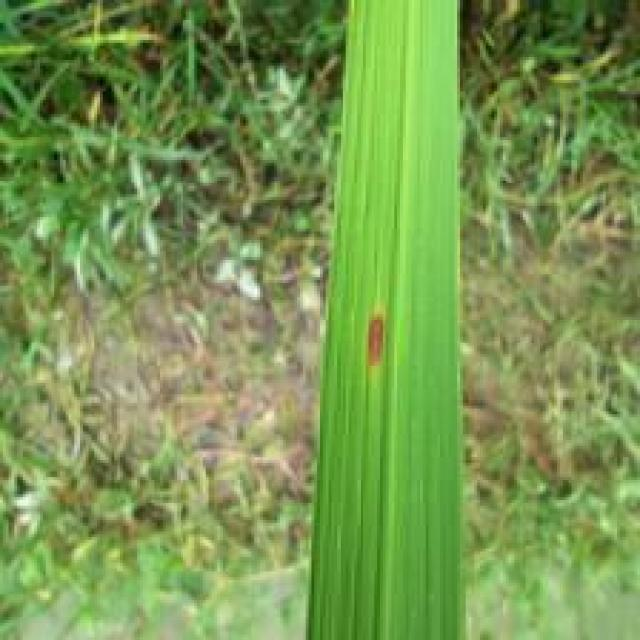Brown_Spot: (363, 313, 385, 375)
